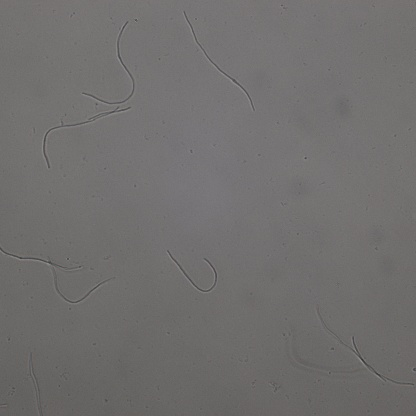Sensitive: (318, 307, 413, 387), (185, 12, 256, 110), (42, 106, 131, 170), (82, 21, 136, 106), (49, 258, 115, 305), (169, 249, 218, 293), (1, 247, 81, 270)
